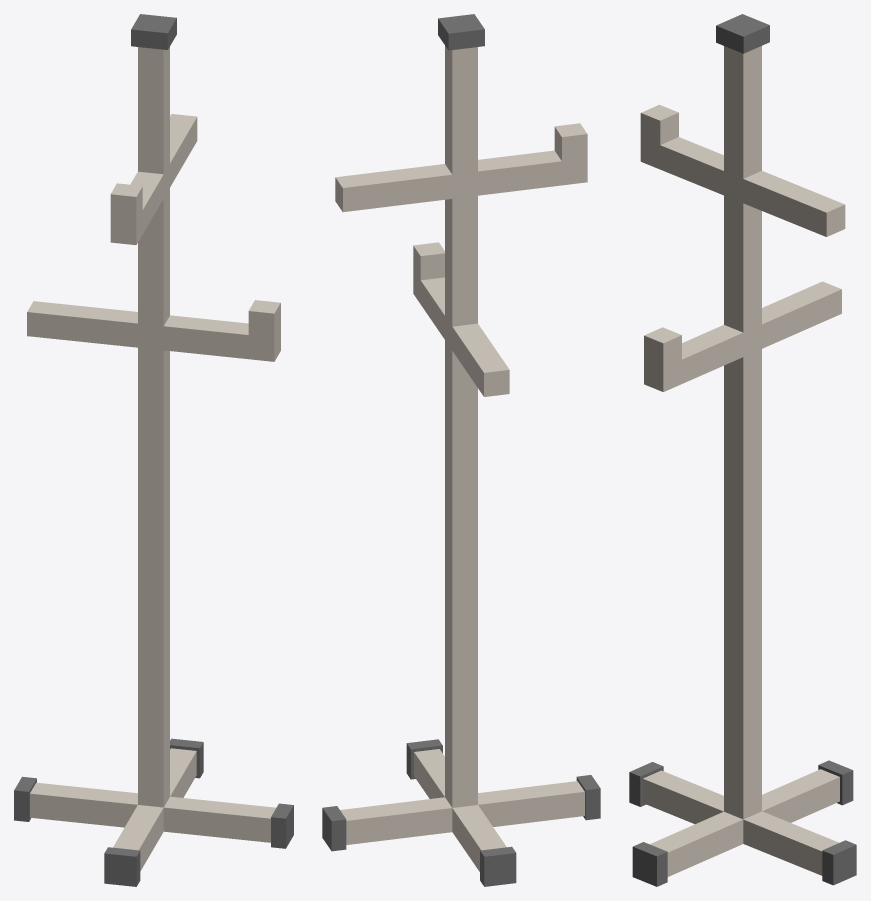
Rendered from hanger.fbx.
3 views of the same model, side by side, from view 1: azimuth 30°, elevation 25°; view 2: azimuth 150°, elevation 25°; view 3: azimuth 270°, elevation 25° (orthographic).
Visible parts, largest first — view 1: Hanger.004; view 2: Hanger.004; view 3: Hanger.004.
Boxes of the visible parts, x1,y1,x2,y2 form: Hanger.004: (14, 14, 293, 886); Hanger.004: (322, 14, 600, 886); Hanger.004: (629, 14, 856, 886).
Size of the model in its own units: 1136 by 4481 by 1136.
